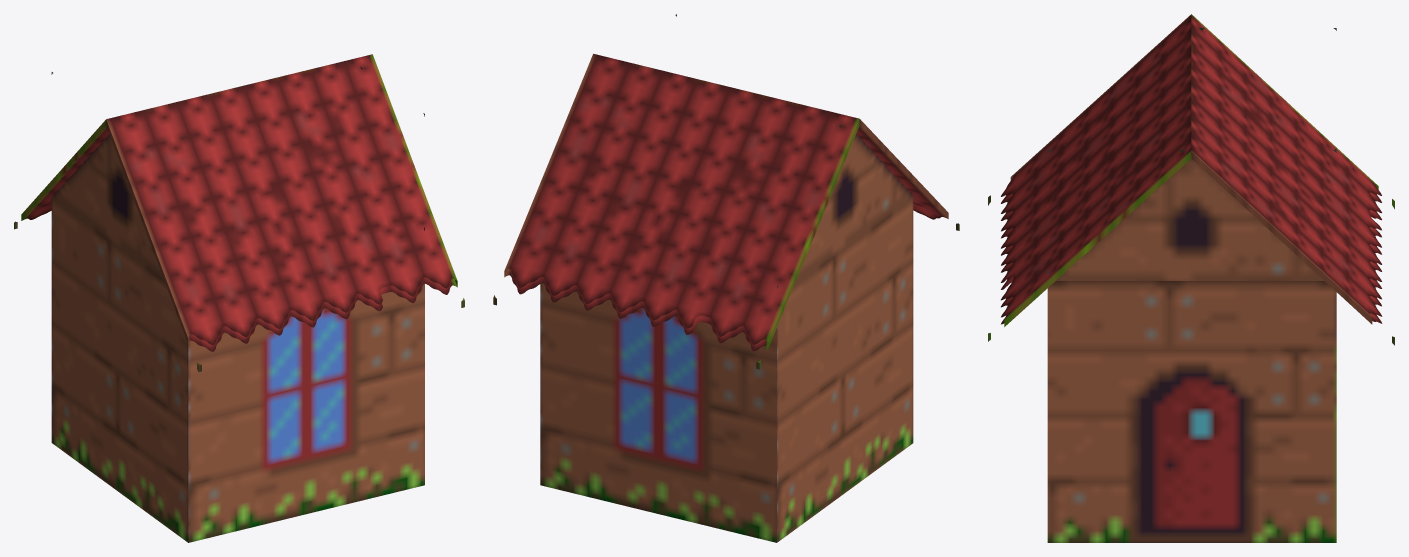
The model's file is Home.fbx.
3 renders of one model, left to right at view 1: azimuth 30°, elevation 25°; view 2: azimuth 150°, elevation 25°; view 3: azimuth 270°, elevation 25°, orthographic. The views are drawn at different scales.
Visible parts, largest first — view 1: Cube; view 2: Cube; view 3: Cube.
Part boxes in pixels (bbox=[...]): Cube: bbox=[14, 54, 464, 542]; Cube: bbox=[493, 14, 959, 542]; Cube: bbox=[988, 14, 1394, 542].
Size of the model in its own units: 116 by 153 by 141.
